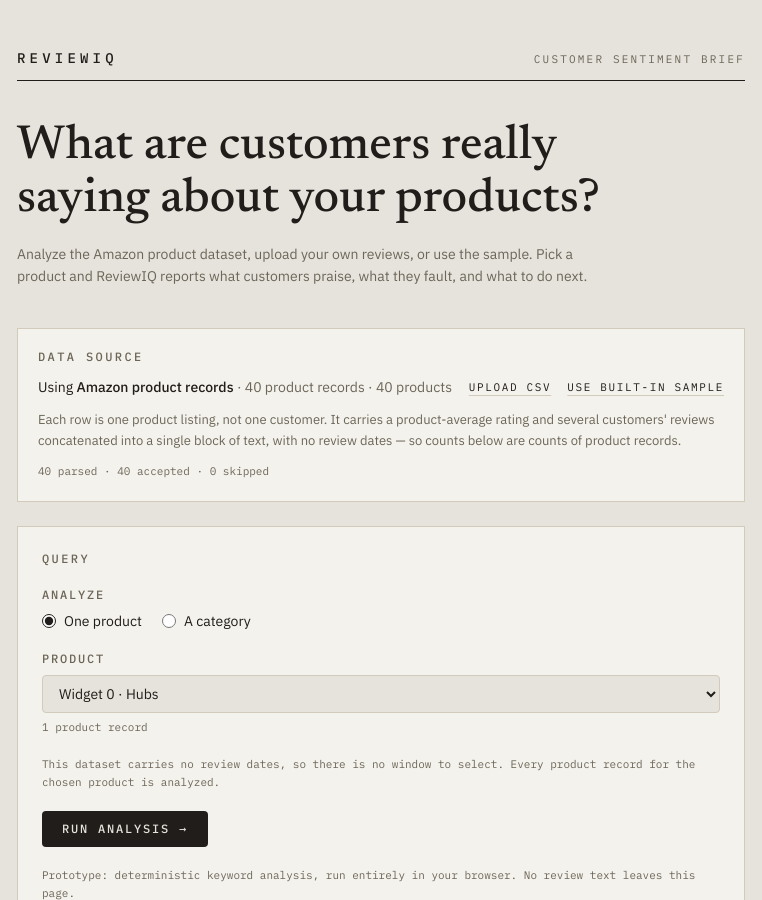
the heuristic engine keeps its old, simpler flow › shows a plain working message rather than a fabricated row counter
The image size is (762, 900).
Click the radio button labelled "A category" at {"x": 169, "y": 621}, box [162,614,176,628]
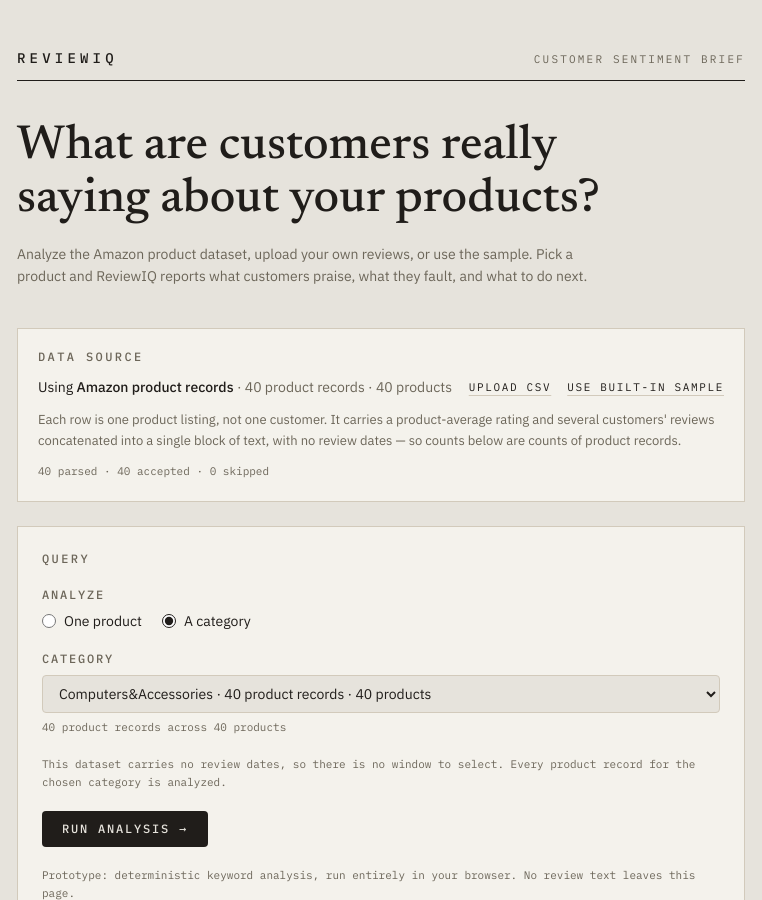
Click the submit button at {"x": 125, "y": 830}, box [42,812,208,848]
(page scrolled)
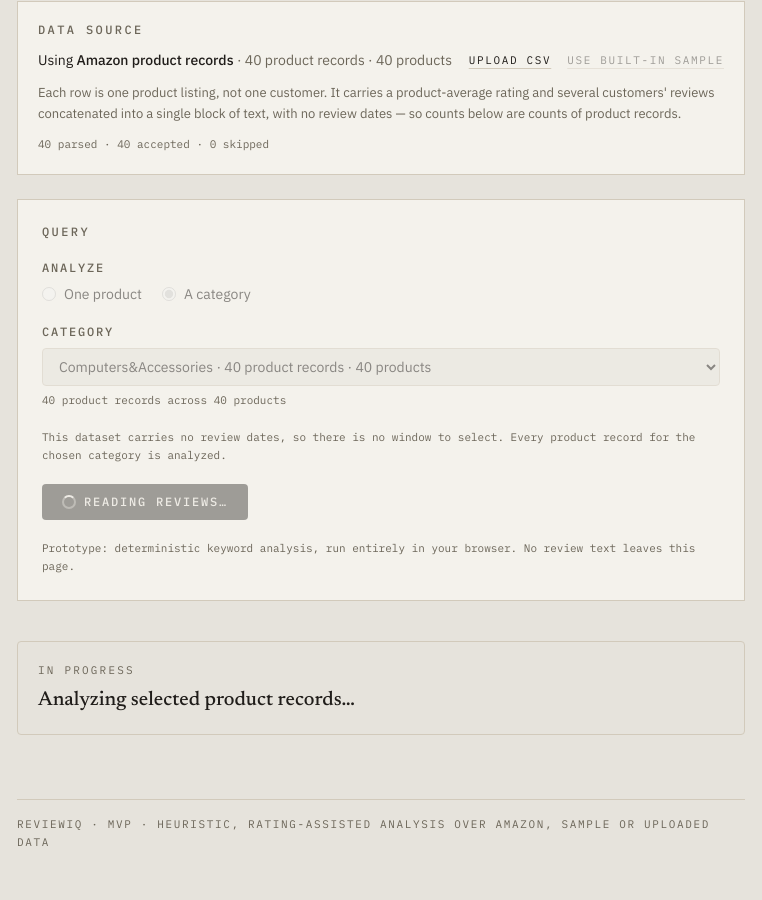
Expected: the text "In progress" is shown, [38,663,135,677]
Expected: the heading "Analyzing selected product records…" is shown, [38,690,355,710]
